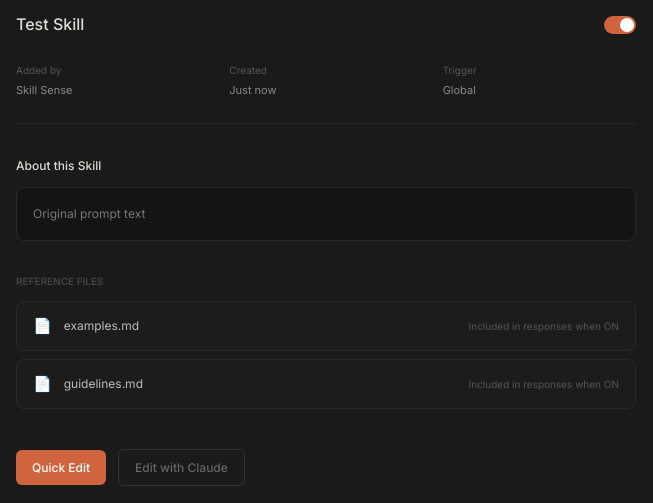
Scenario: Phase 8 — QuickEdit & SkillDetail › Quick Edit button sets isEditing to true
Click the button with test id "quick-edit-btn". click: (61, 467)
box: [16, 450, 106, 485]
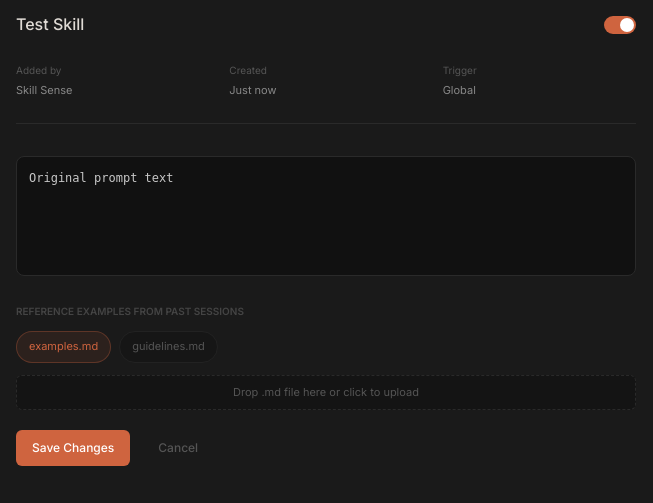
Expected: the element with test id "quick-edit-section" is shown, [16, 156, 636, 466]
Expected: the text "About this Skill" is gone
